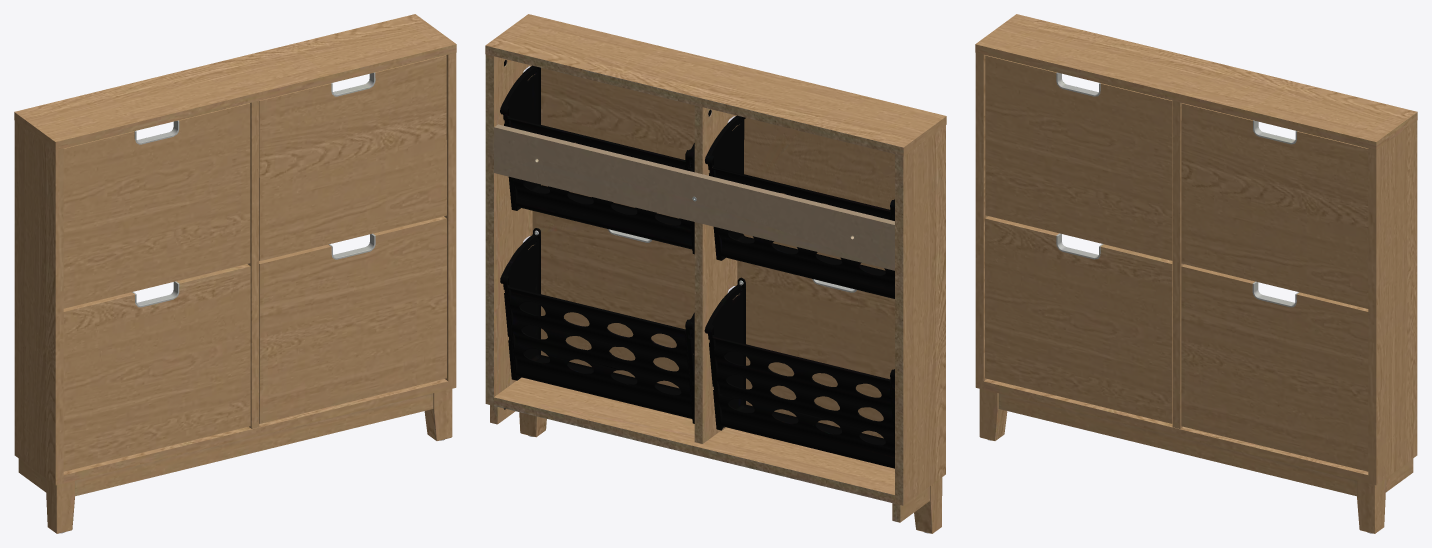
The picture shows the model from 3 angles, left to right: view 1: azimuth 30°, elevation 25°; view 2: azimuth 150°, elevation 25°; view 3: azimuth 330°, elevation 25°; orthographic projection. The views are drawn at different scales.
Parts seen in each view (by area): view 1: 40530229-STÃƒâ€žLL001; view 2: 40530229-STÃƒâ€žLL001; view 3: 40530229-STÃƒâ€žLL001.
Boxes of the visible parts, x1=… form: 40530229-STÃƒâ€žLL001: x1=14, y1=14, x2=456, y2=533; 40530229-STÃƒâ€žLL001: x1=485, y1=14, x2=946, y2=533; 40530229-STÃƒâ€žLL001: x1=975, y1=14, x2=1417, y2=533.
Size of the model in its own units: 0.957 by 0.9033 by 0.171.
1 material, 1 textured.
